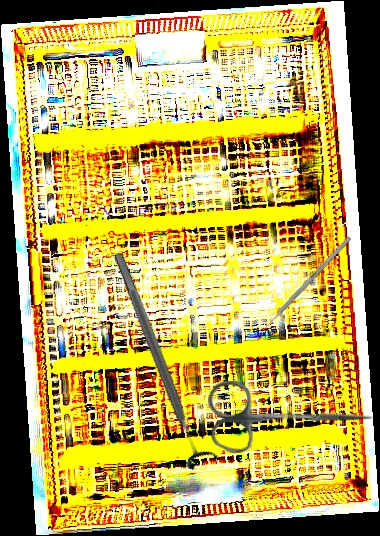Fixation Ring: (101, 246, 221, 473)
Iris Scissors: (207, 378, 375, 454)
Pusher: (258, 235, 352, 336)
